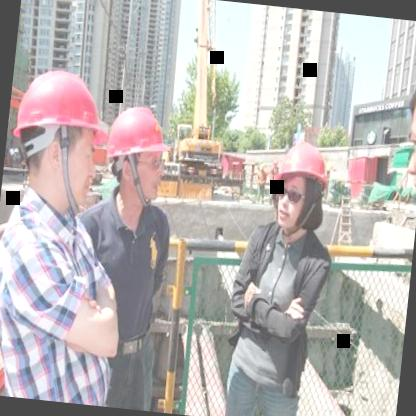helmet: (8, 60, 102, 215), (100, 100, 172, 210), (266, 138, 334, 238)
